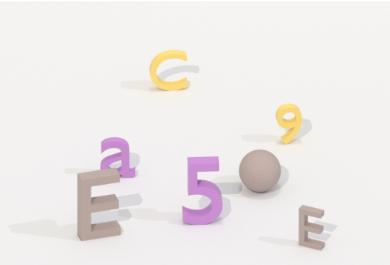0-Tron: (235, 146, 285, 197)
5: (178, 153, 225, 229)
9: (274, 101, 305, 149)
C: (146, 45, 193, 96)
E: (73, 165, 126, 244), (295, 199, 331, 254)
a: (98, 133, 138, 182)
